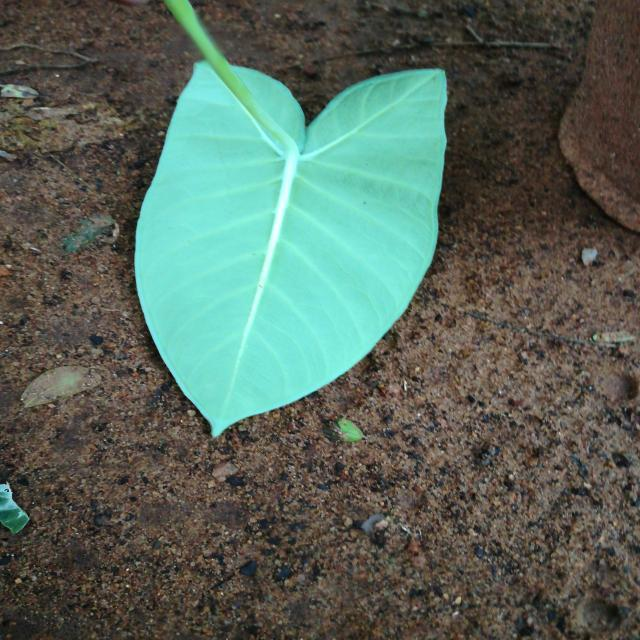leaf: (132, 59, 448, 438)
